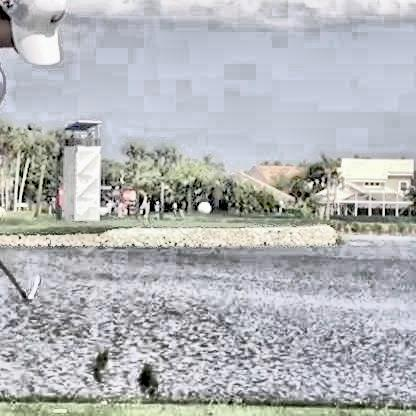golfball: (197, 201, 213, 217)
